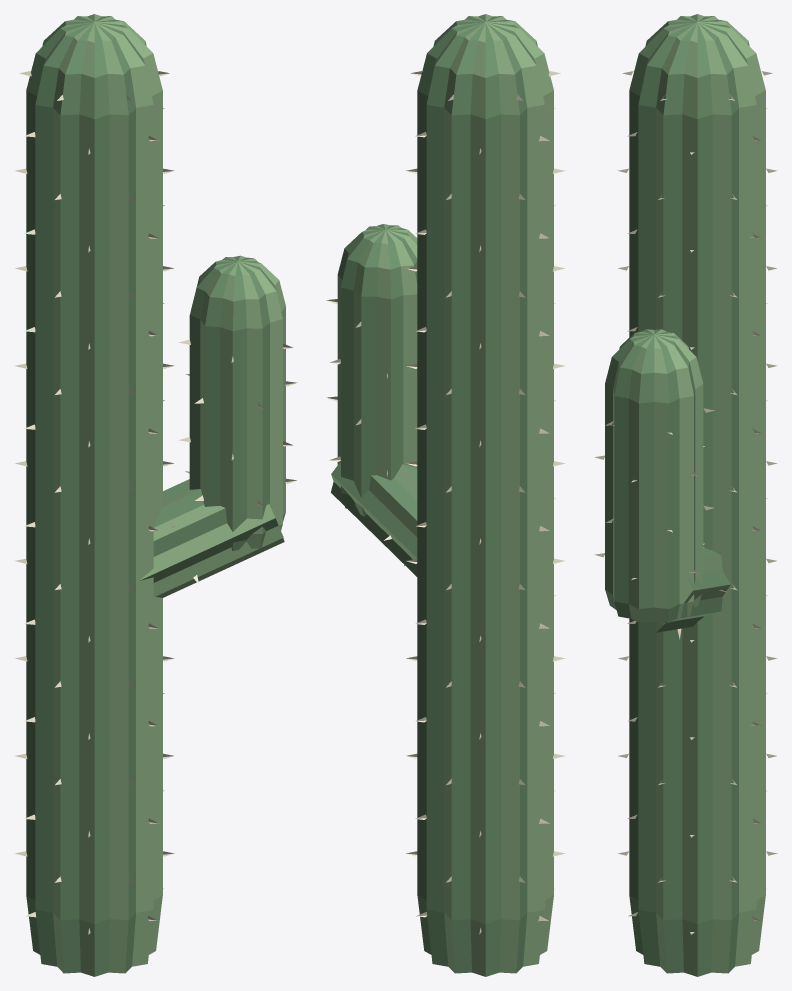
File: cactus-saguaro-a.glb
3 renders of one model, left to right at view 1: azimuth 30°, elevation 25°; view 2: azimuth 150°, elevation 25°; view 3: azimuth 270°, elevation 25°, orthographic.
Parts seen in each view (by area): view 1: cactus-saguaro-a; view 2: cactus-saguaro-a; view 3: cactus-saguaro-a.
Part boxes in pixels (bbox=[...]): cactus-saguaro-a: bbox=[14, 14, 297, 976]; cactus-saguaro-a: bbox=[326, 14, 565, 976]; cactus-saguaro-a: bbox=[594, 14, 777, 976].
Bounding box in the file's own units: 0.6478 × 2.4 × 0.4304.
